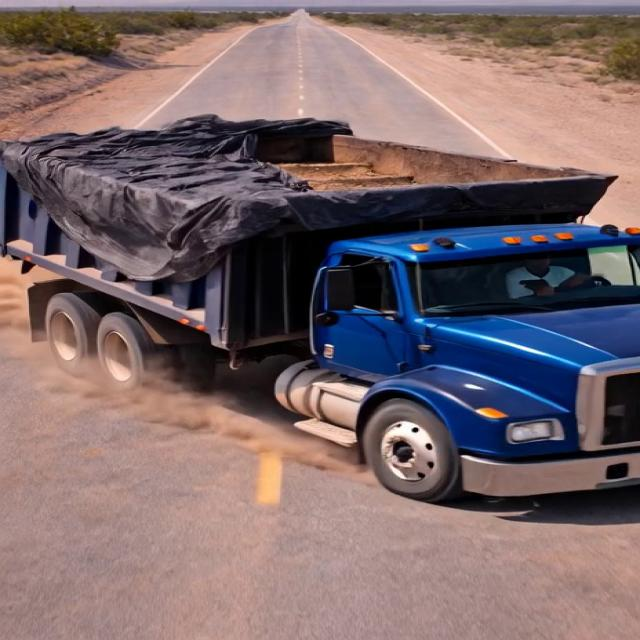trailer: (2, 119, 615, 227)
truck: (21, 89, 633, 508)
